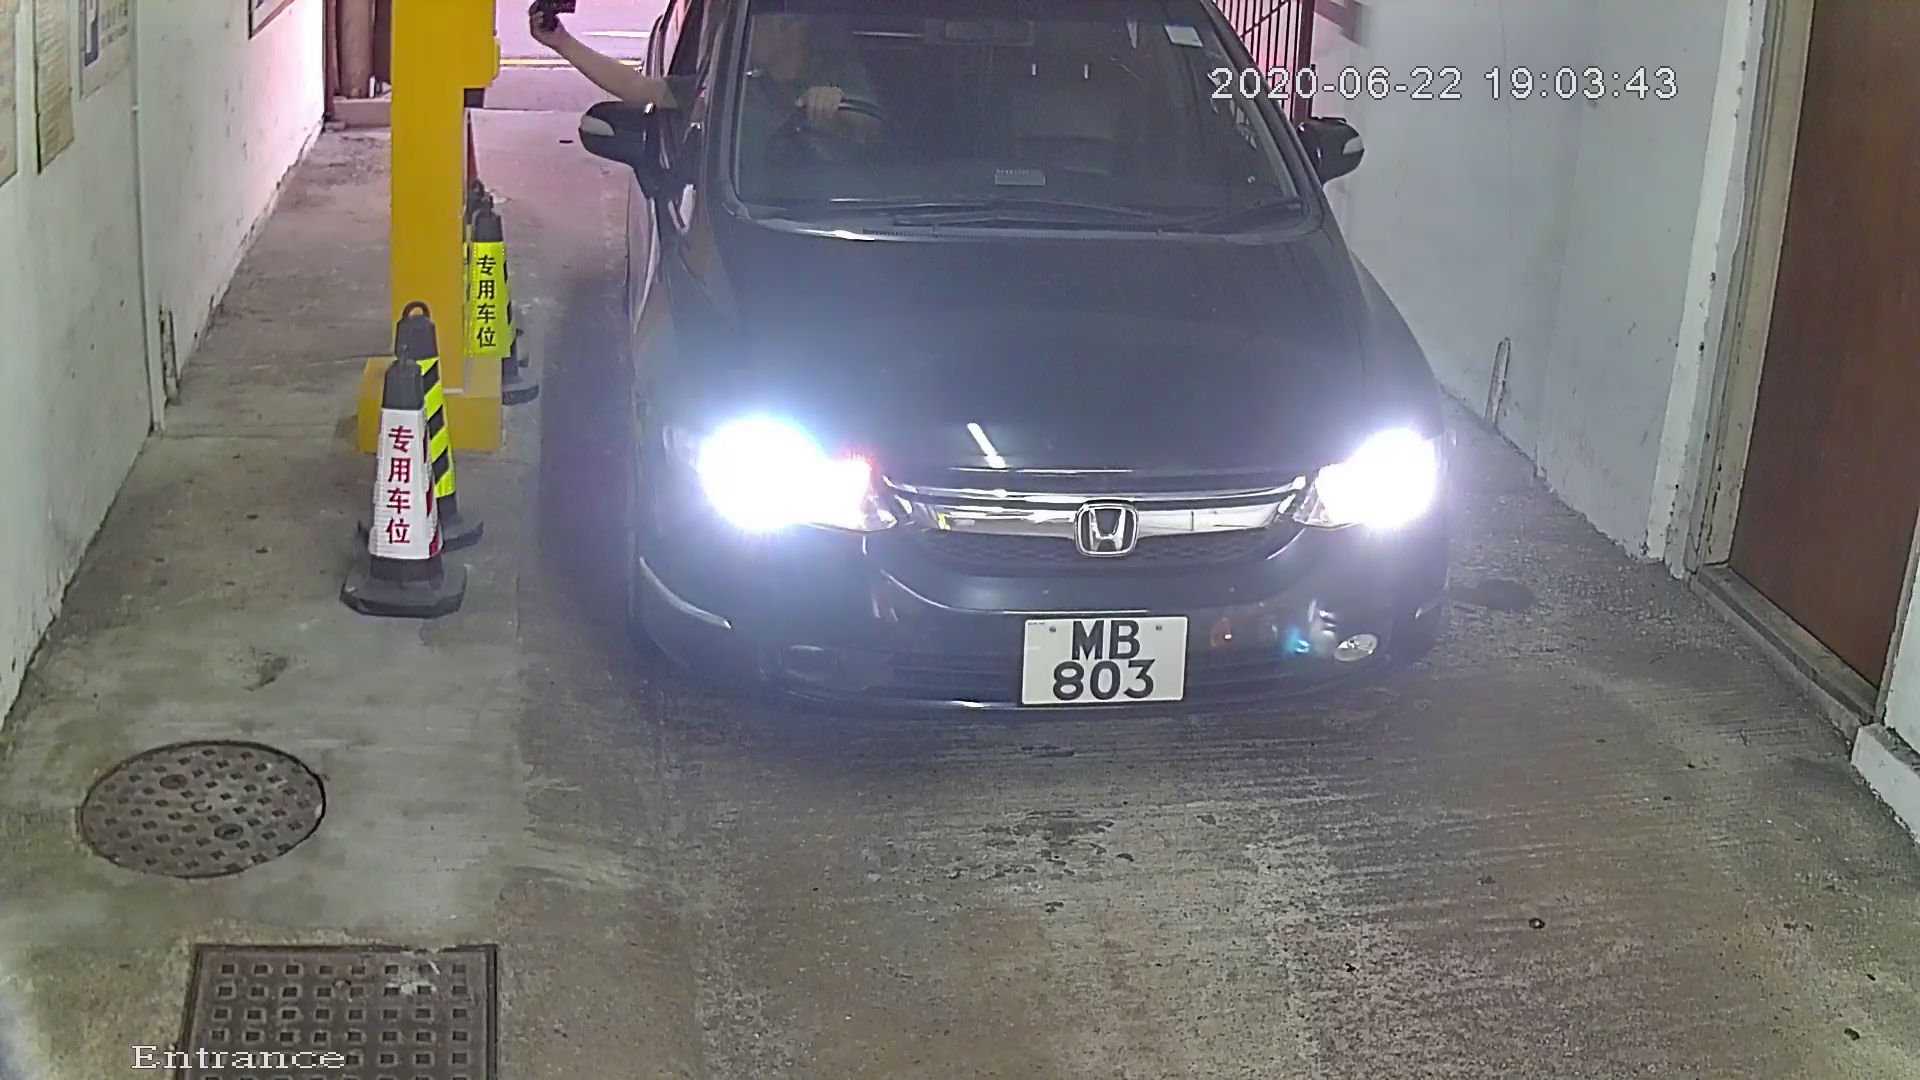privatecar: (518, 3, 1518, 779)
